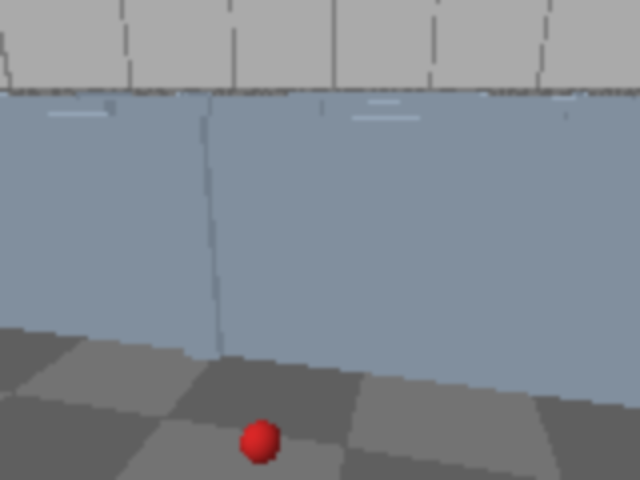puck: (235, 411, 285, 475)
